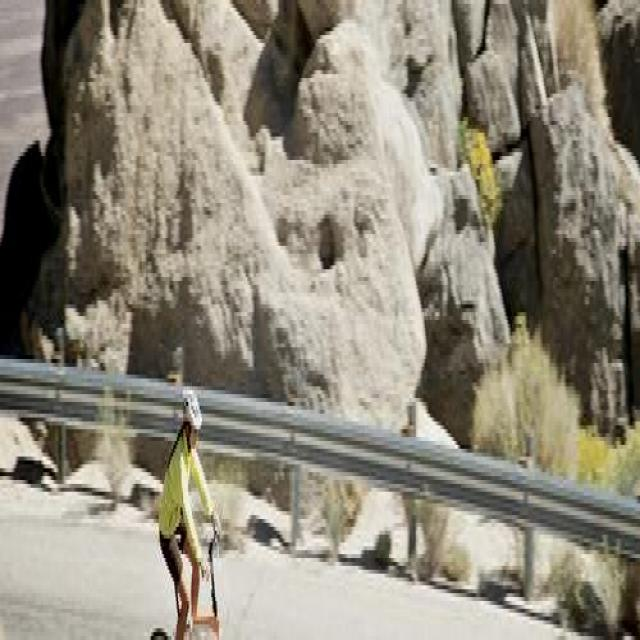bikerider: (140, 355, 226, 636)
